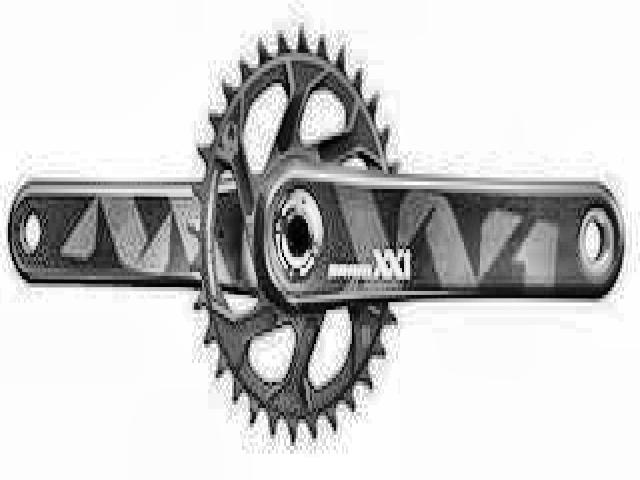cranks_set: (190, 28, 626, 446)
